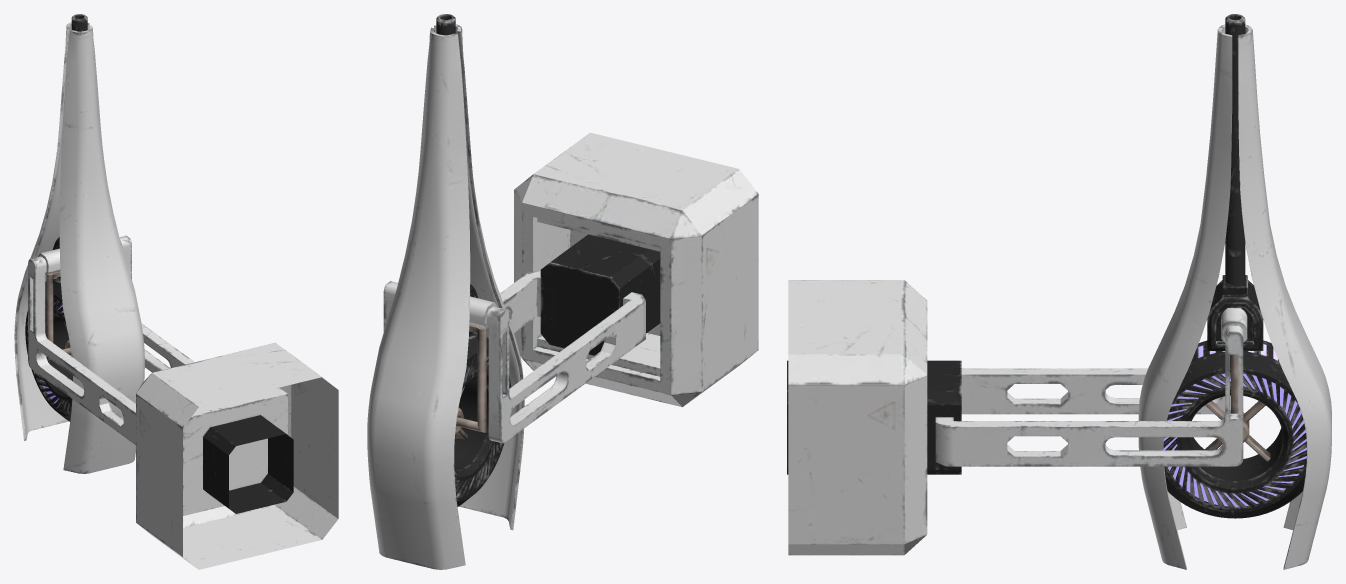
The model's file is laser_turret.glb.
3 renders of one model, left to right at view 1: azimuth 30°, elevation 25°; view 2: azimuth 150°, elevation 25°; view 3: azimuth 270°, elevation 25°, orthographic. The views are drawn at different scales.
Visible parts, largest first — view 1: turret-base, turret-barrel; view 2: turret-base, turret-barrel; view 3: turret-base, turret-barrel.
Boxes of the visible parts, x1,y1,x2,y2 form: turret-base: (14, 232, 338, 569); turret-barrel: (28, 14, 131, 283); turret-base: (367, 132, 758, 569); turret-barrel: (383, 14, 509, 341); turret-base: (787, 280, 1331, 569); turret-barrel: (1175, 14, 1294, 340).
Size of the model in its own units: 0.3785 by 1 by 0.9304.
Materials: 1 (1 with a texture image).
